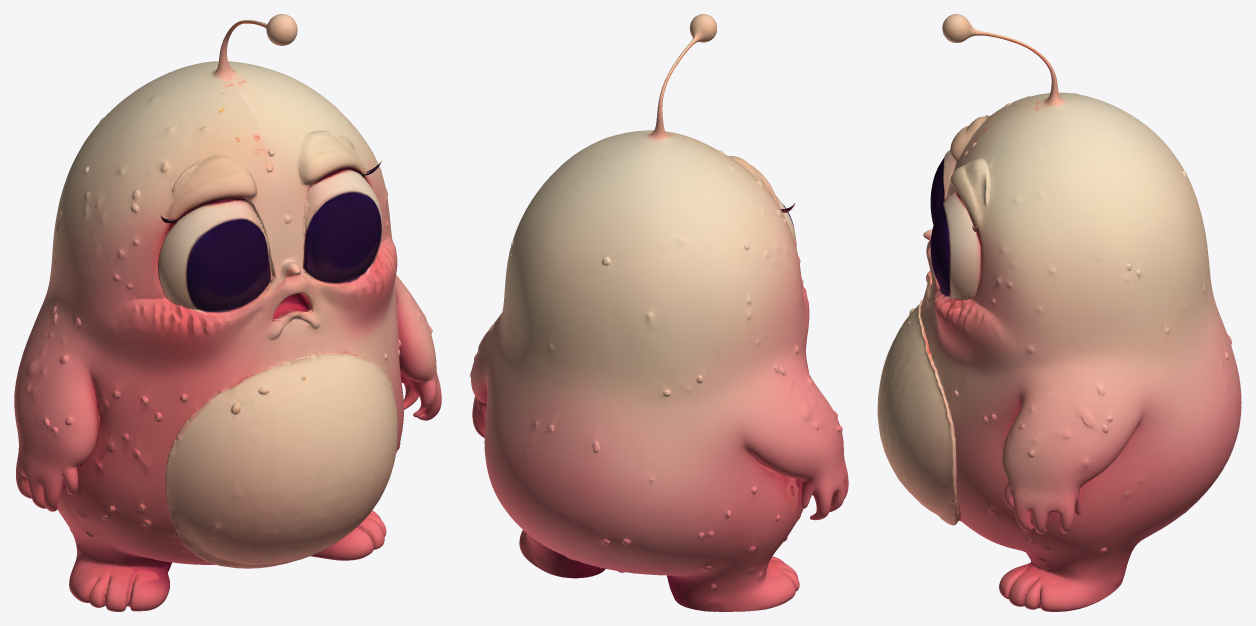
Rendered from base_basic_pbr-v1.glb.
3 renders of one model, left to right at view 1: azimuth 30°, elevation 25°; view 2: azimuth 150°, elevation 25°; view 3: azimuth 270°, elevation 25°, orthographic. The views are drawn at different scales.
Parts seen in each view (by area): view 1: model; view 2: model; view 3: model.
Part boxes in pixels (x1,y1,x2,y2): model: (14,14,441,611); model: (470,14,848,611); model: (877,14,1241,611).
Size of the model in its own units: 1.36 by 1.9 by 1.17.
Materials: 1 (1 with a texture image).
